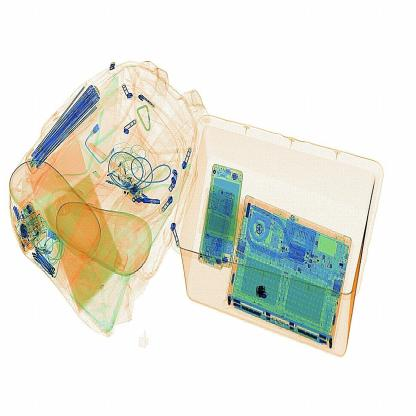scissors: (254, 284, 269, 304)
